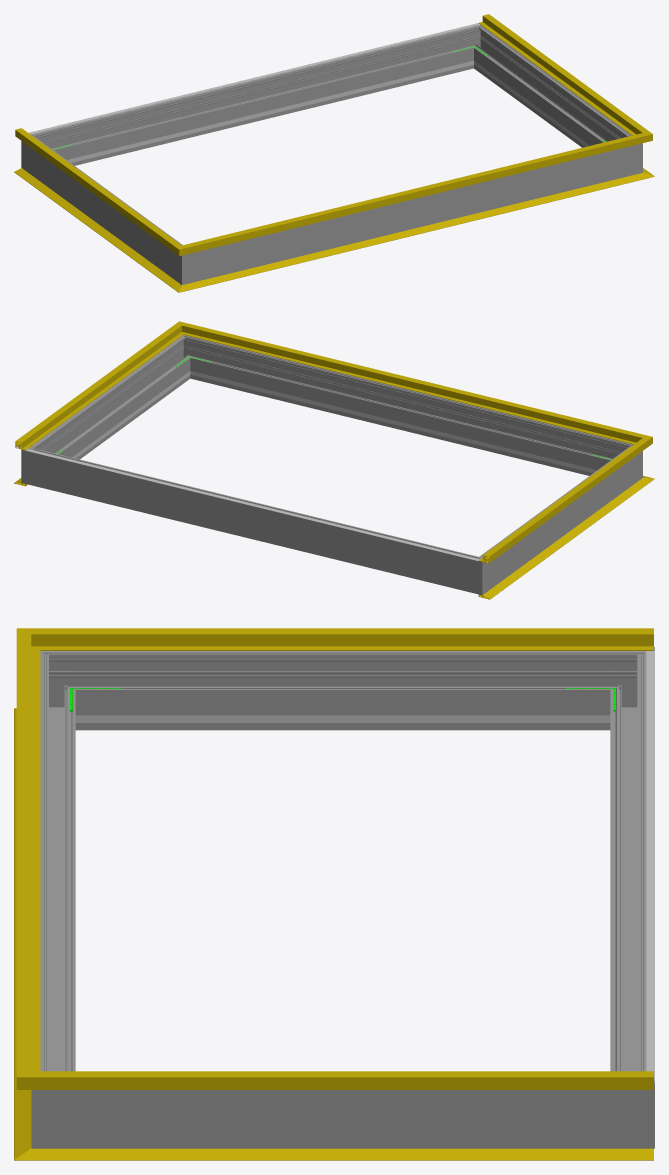
The picture shows the model from 3 angles, top to bottom: view 1: azimuth 30°, elevation 25°; view 2: azimuth 150°, elevation 25°; view 3: azimuth 270°, elevation 25°; orthographic projection. The views are drawn at different scales.
Visible parts, largest first — view 1: 3DGeom-276, 3DGeom-298, 3DGeom-297, 3DGeom-123, 3DGeom-268, 3DGeom-28, 3DGeom-128, 3DGeom-118, 3DGeom-244, 3DGeom-38, 3DGeom-220, 3DGeom-270 (+5 smaller); view 2: 3DGeom-298, 3DGeom-276, 3DGeom-297, 3DGeom-123, 3DGeom-268, 3DGeom-128, 3DGeom-118, 3DGeom-239, 3DGeom-38, 3DGeom-278, 3DGeom-220, 3DGeom-284 (+4 smaller); view 3: 3DGeom-268, 3DGeom-297, 3DGeom-276, 3DGeom-118, 3DGeom-298, 3DGeom-128, 3DGeom-123, 3DGeom-30, 3DGeom-220, 3DGeom-232, 3DGeom-284, 3DGeom-290 (+6 smaller).
Part boxes in pixels (x1,y1,x2,y2): 3DGeom-276: [47, 29, 469, 165]; 3DGeom-298: [205, 149, 618, 279]; 3DGeom-297: [476, 33, 624, 147]; 3DGeom-123: [199, 137, 629, 250]; 3DGeom-268: [35, 142, 175, 274]; 3DGeom-28: [198, 176, 630, 286]; 3DGeom-128: [479, 14, 638, 132]; 3DGeom-118: [15, 128, 171, 245]; 3DGeom-244: [75, 66, 450, 161]; 3DGeom-38: [14, 168, 172, 282]; 3DGeom-220: [28, 23, 479, 134]; 3DGeom-270: [168, 240, 205, 284]; 3DGeom-298: [194, 339, 616, 475]; 3DGeom-276: [45, 452, 462, 589]; 3DGeom-297: [39, 343, 187, 459]; 3DGeom-123: [197, 327, 628, 441]; 3DGeom-268: [488, 453, 628, 584]; 3DGeom-128: [15, 331, 175, 450]; 3DGeom-118: [478, 445, 639, 563]; 3DGeom-239: [213, 376, 588, 471]; 3DGeom-38: [478, 484, 640, 599]; 3DGeom-278: [458, 550, 495, 595]; 3DGeom-220: [25, 449, 479, 561]; 3DGeom-284: [21, 440, 49, 488]; 3DGeom-268: [84, 651, 601, 730]; 3DGeom-297: [84, 1090, 601, 1148]; 3DGeom-276: [610, 669, 646, 1071]; 3DGeom-118: [70, 628, 653, 650]; 3DGeom-298: [40, 669, 75, 1071]; 3DGeom-128: [70, 1071, 653, 1089]; 3DGeom-123: [16, 650, 40, 1066]; 3DGeom-30: [67, 1148, 653, 1160]; 3DGeom-220: [646, 650, 654, 1080]; 3DGeom-232: [127, 715, 558, 722]; 3DGeom-284: [601, 1061, 654, 1148]; 3DGeom-290: [31, 1061, 84, 1148].
Size of the model in its own units: 3.05 by 0.2596 by 1.83.
